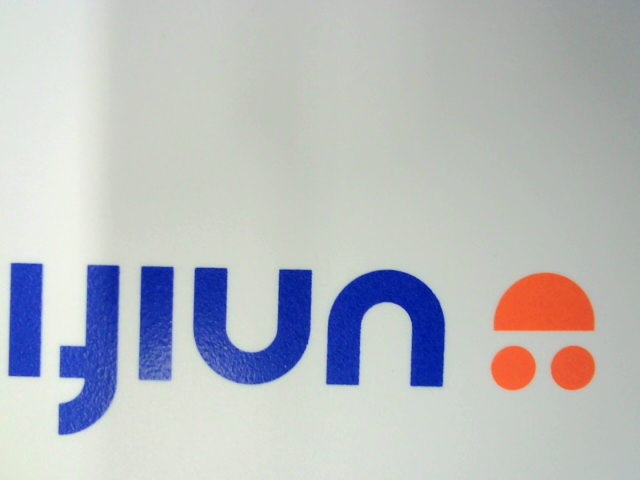BN_unifi: (7, 250, 596, 428)
